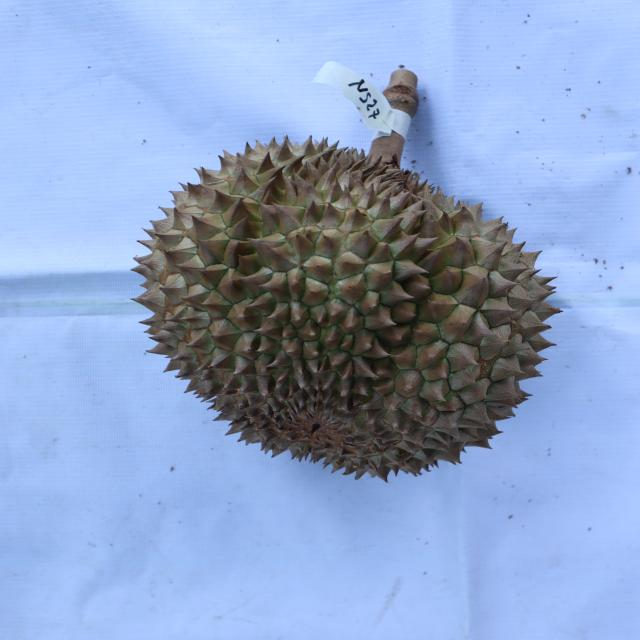mature: (128, 132, 568, 477)
